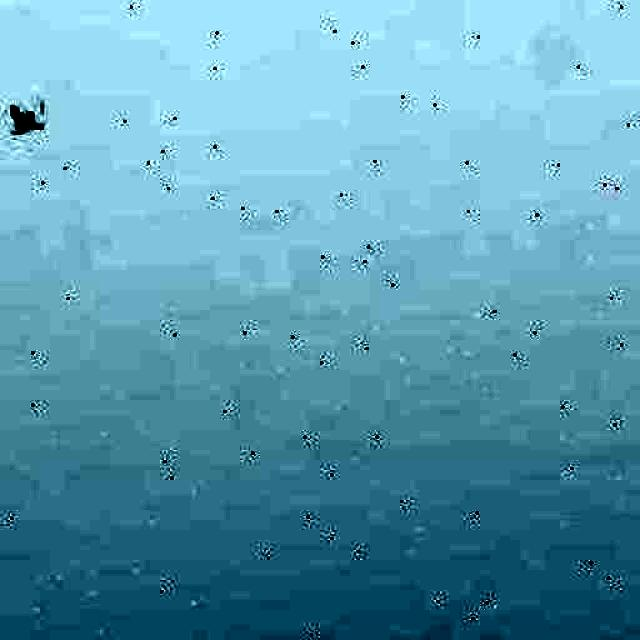airplane: (10, 100, 44, 132)
